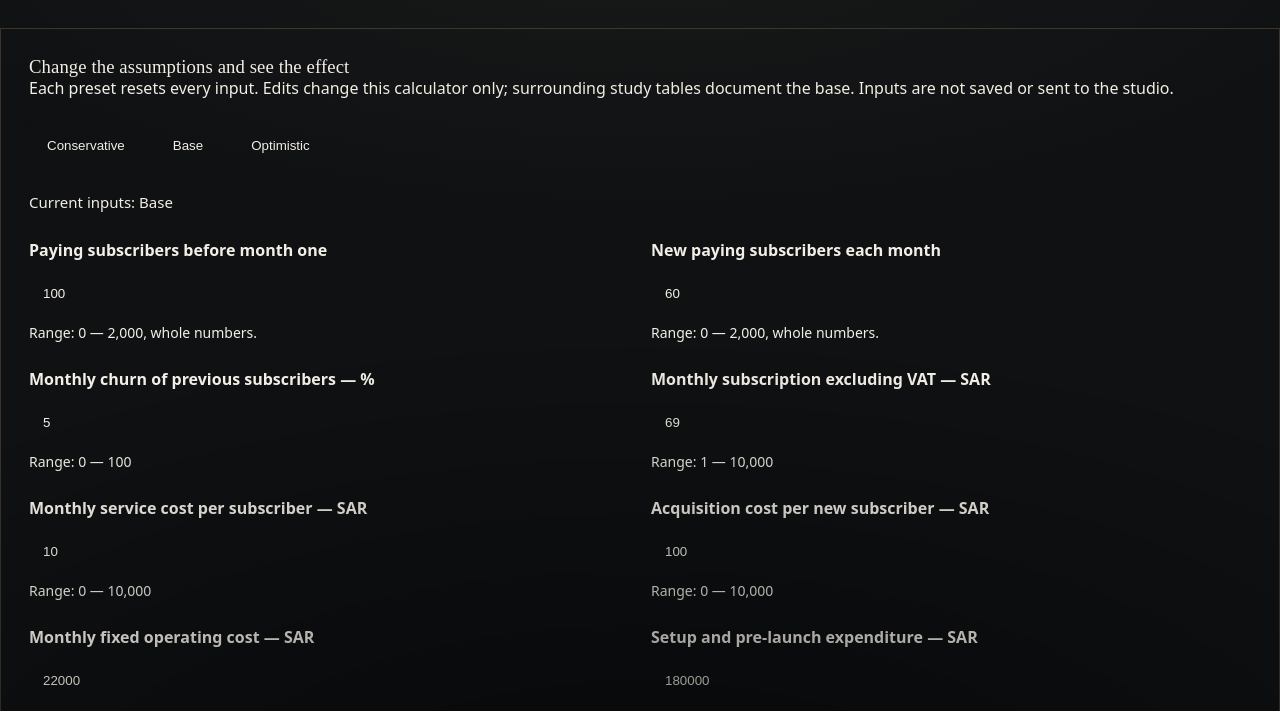
Test case: Portfolio feasibility visitor journeys › shows subscription churn effects and warnings without invalid break-even numbers
This screenshot has width=1280, height=711.
Replace the text in the number field labelled "Monthly churn of previous subscribers — %" with "100" at (329, 422), box 29,398 -> 629,446
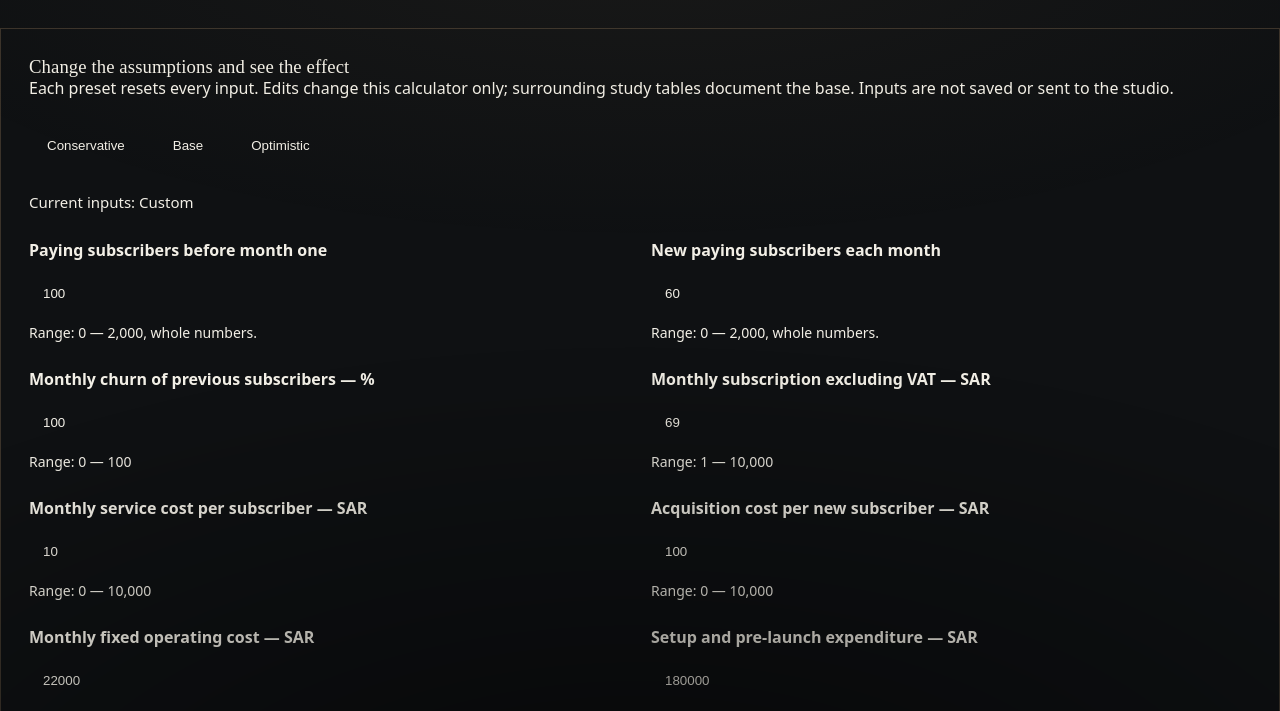
Replace the text in the number field labelled "Monthly service cost per subscriber — SAR" with "69" at (329, 551), box 29,527 -> 629,575
(page scrolled)
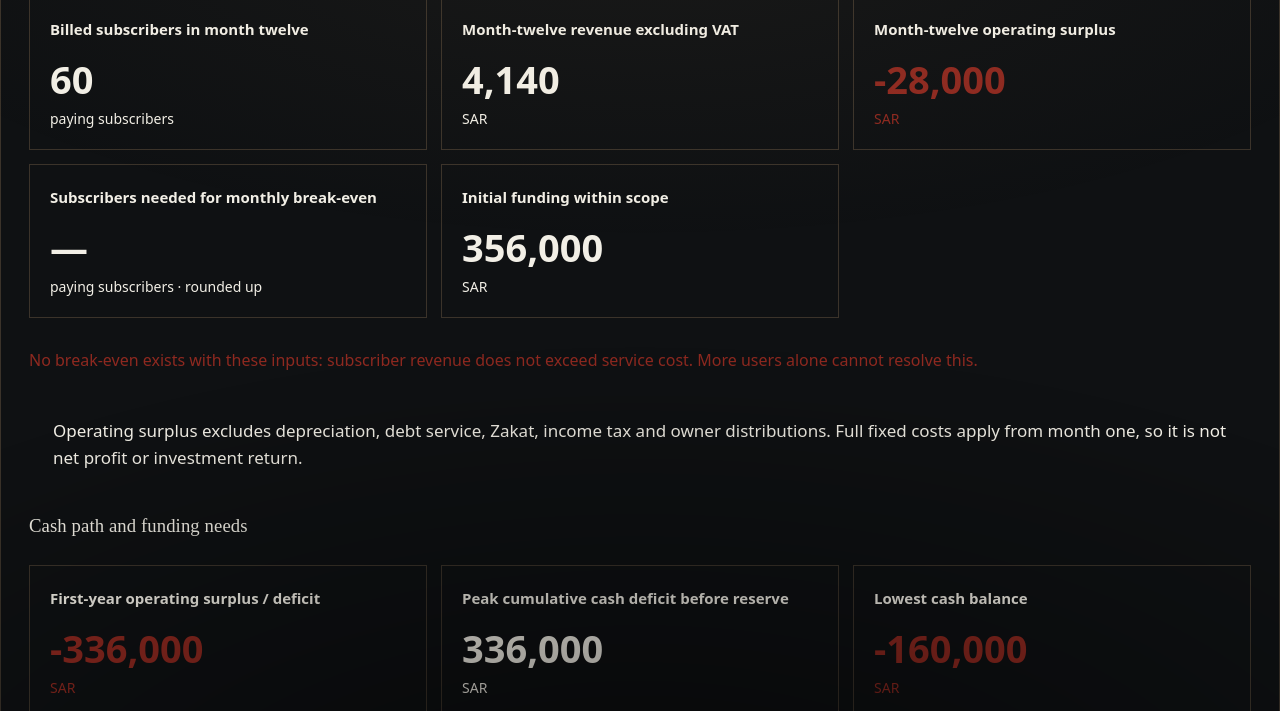
Result: the element with test id "break-even" shows "—" at 50,221 -> 88,273
Result: the text "No break-even exists" is shown at 29,349 -> 978,371
